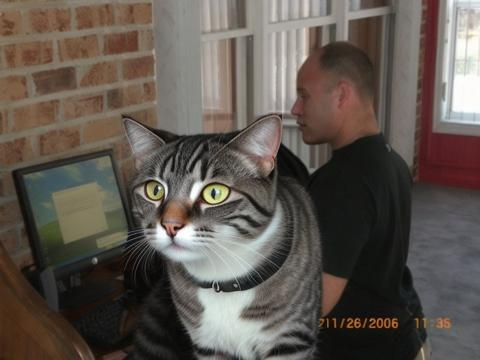cat: (122, 114, 325, 360)
dog: (147, 200, 238, 288)
person: (290, 42, 414, 322)
tvmonitor: (10, 149, 138, 311)
